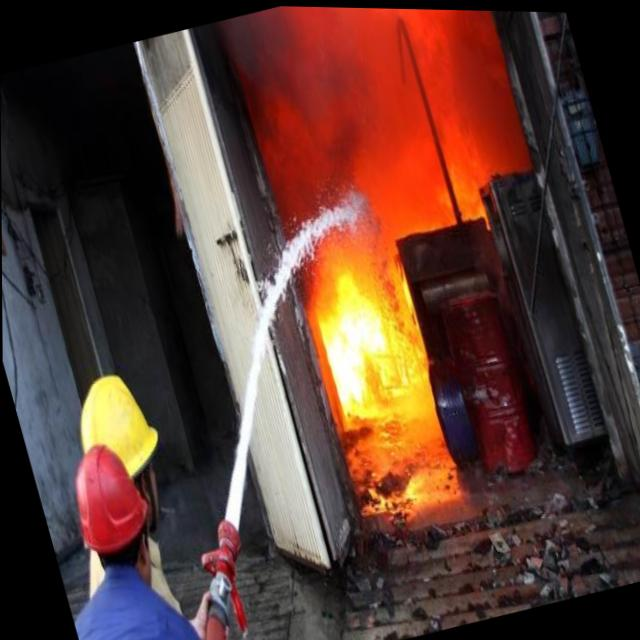fire: (287, 216, 443, 444)
